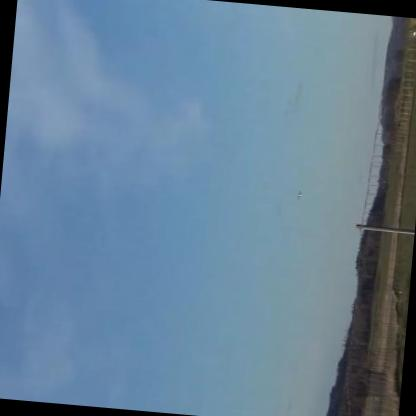plane: (293, 188, 306, 199)
